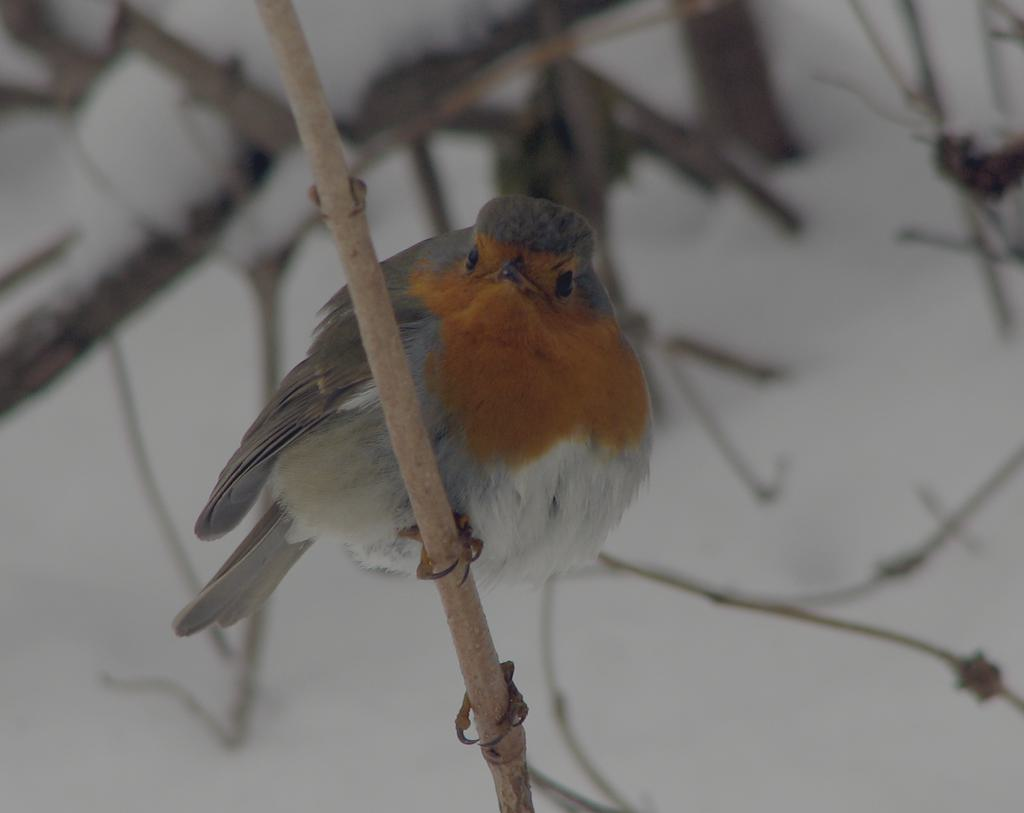ErithacusRubecula: (172, 197, 653, 637)
